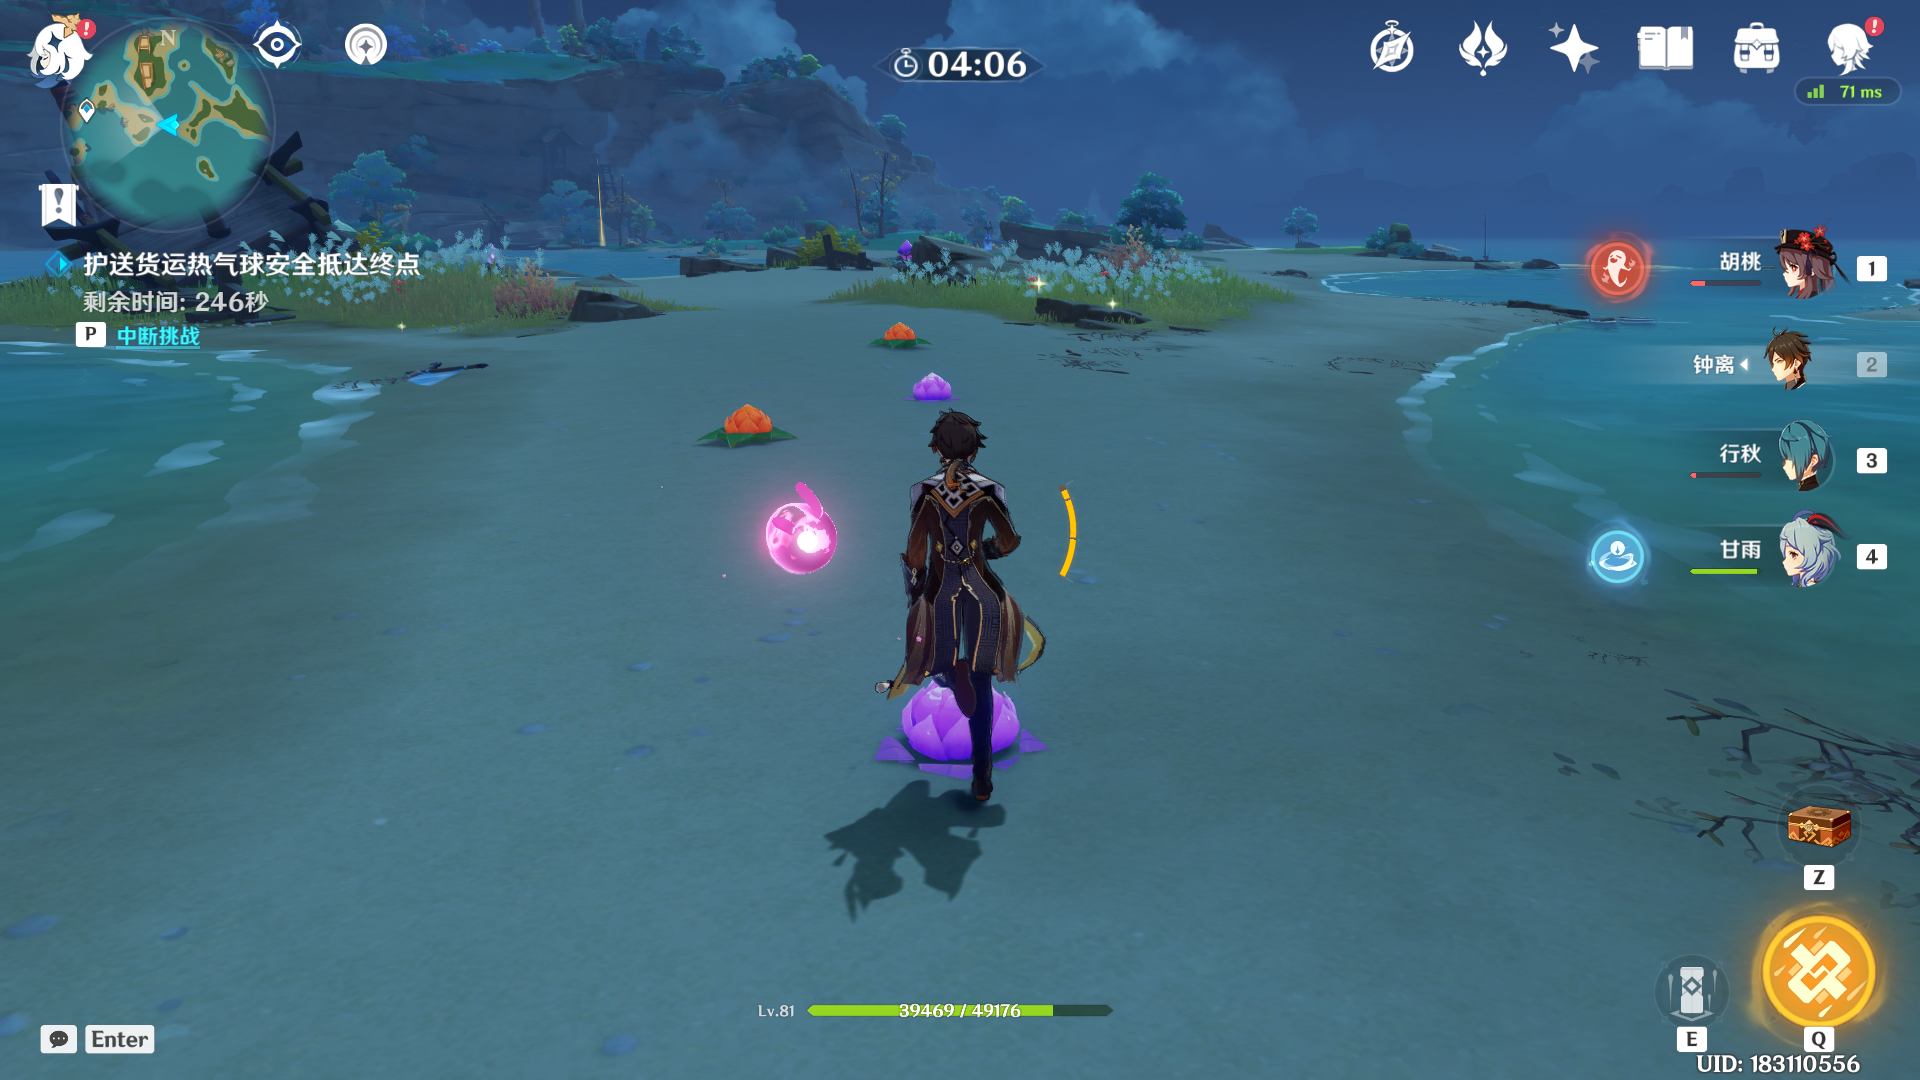character: (829, 389, 1088, 828)
